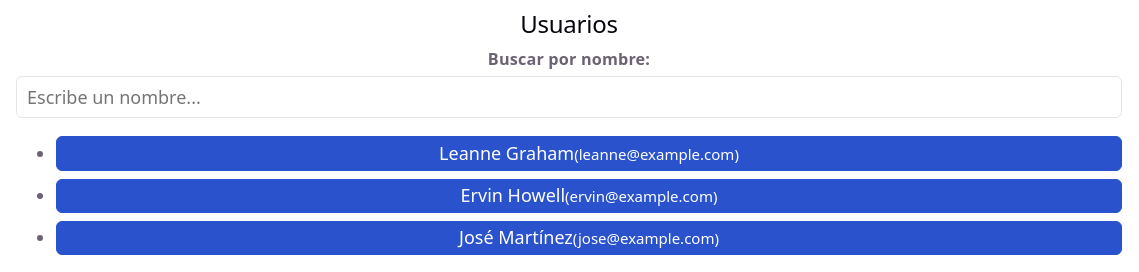
Test case: UserList › muestra los usuarios y los filtra por nombre
Check: the button "Leanne Graham (leanne@example.com)" is shown, box [56,136,1122,170]
Type "jose" into the field labelled "Buscar por nombre:".
click(569, 97); type("jose")  # box [16,76,1122,118]
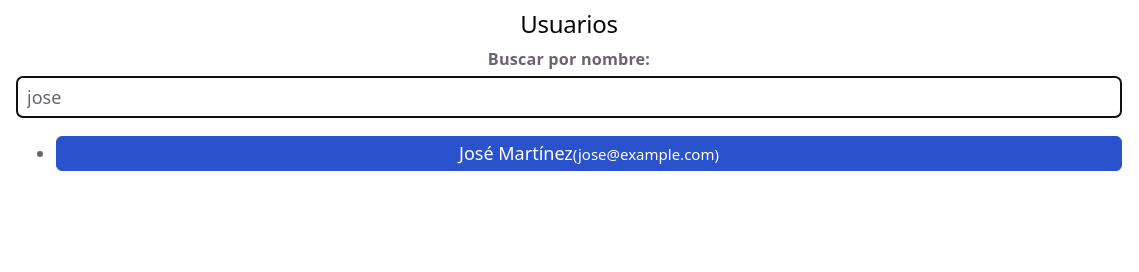
Check: the button "José Martínez (jose@example.com)" is shown, box [56,136,1122,170]
Check: the button "Leanne Graham" is gone
